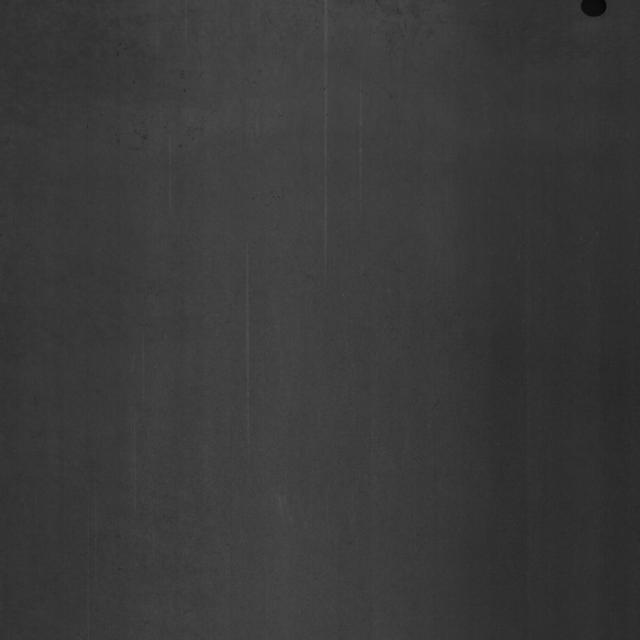crescent_gap: (579, 0, 609, 24)
